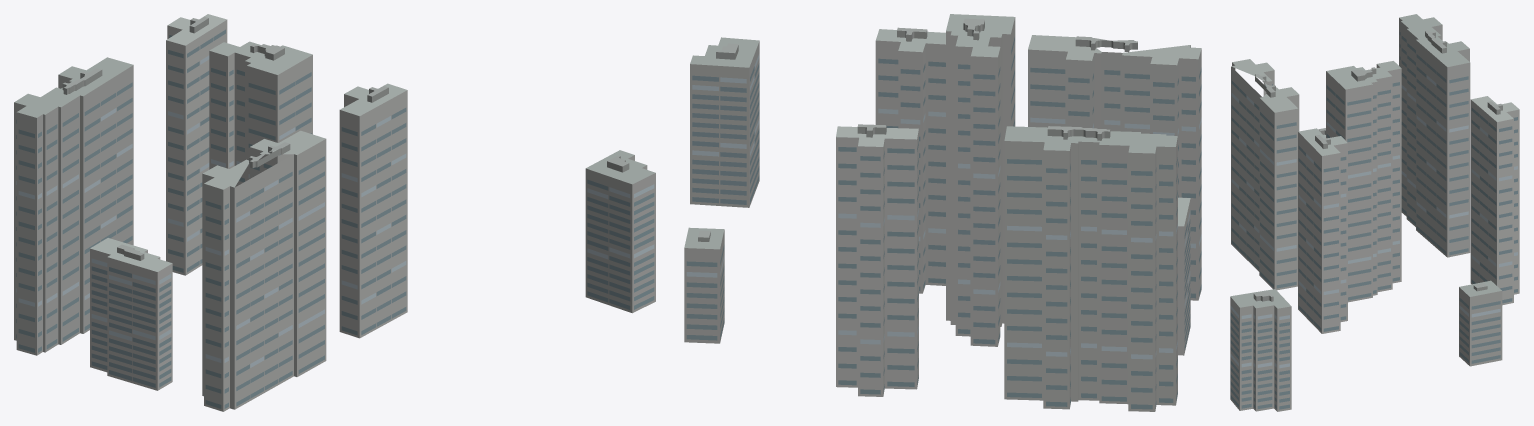
The model's file is apt-a10024131.glb.
3 renders of one model, left to right at view 1: azimuth 30°, elevation 25°; view 2: azimuth 150°, elevation 25°; view 3: azimuth 270°, elevation 25°, orthographic. The views are drawn at different scales.
Visible parts, largest first — view 1: apt-a10024131; view 2: apt-a10024131; view 3: apt-a10024131.
Boxes of the visible parts, left/top/right/bottom form: apt-a10024131: left=14, top=14, right=655, bottom=411; apt-a10024131: left=684, top=14, right=1201, bottom=411; apt-a10024131: left=1230, top=14, right=1519, bottom=411.
Size of the model in its own units: 214 by 105 by 126.
